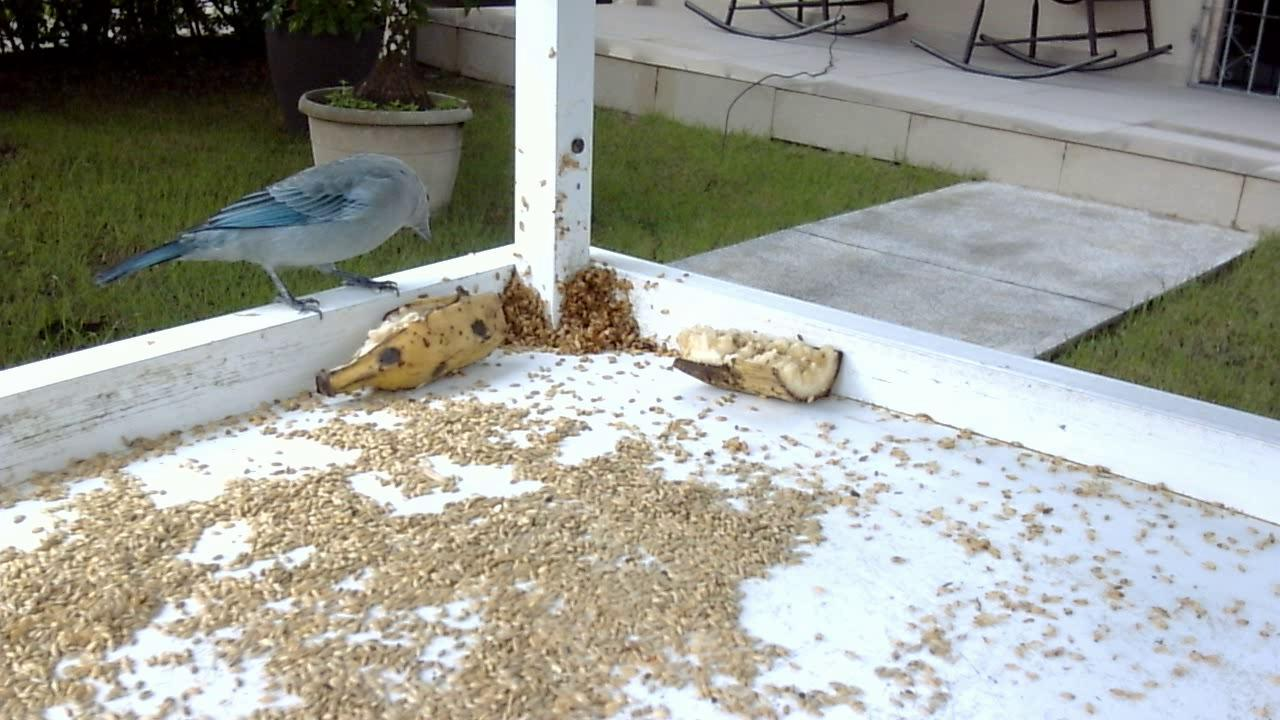sanhaco_da_amazonia: (96, 148, 431, 327)
